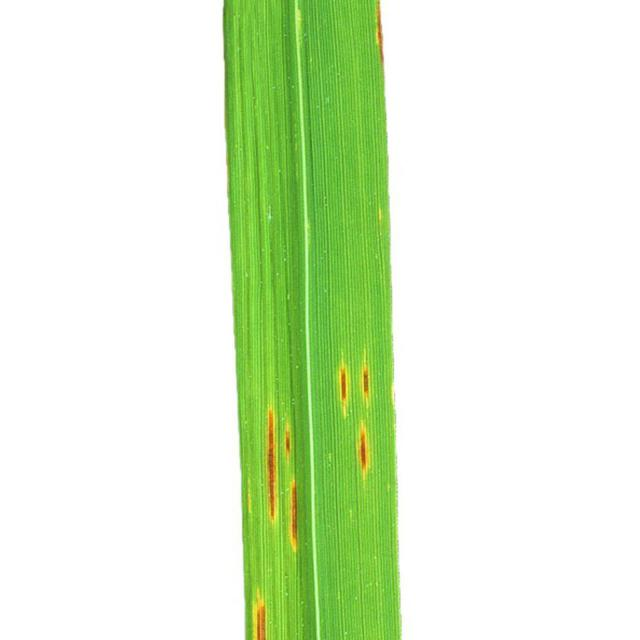Narrow brown: (213, 0, 440, 640)
